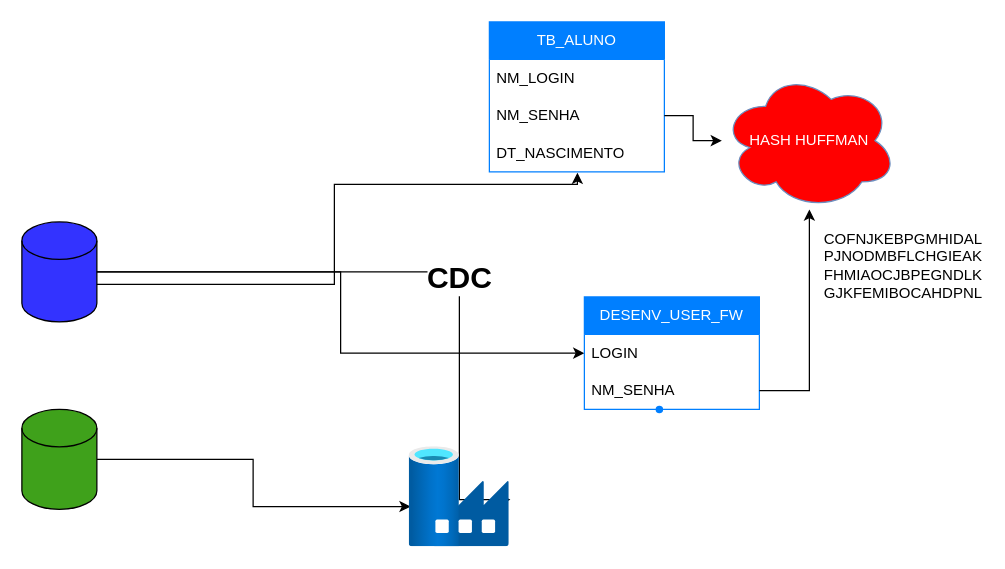
This 1005x569 diagram has some shape labels left out. Here are the shapes that lost their labels. From the top down, the centre of each, then its label:
At (x=59, y=271): "SED".
At (x=59, y=458): "Banco Login Servico".
